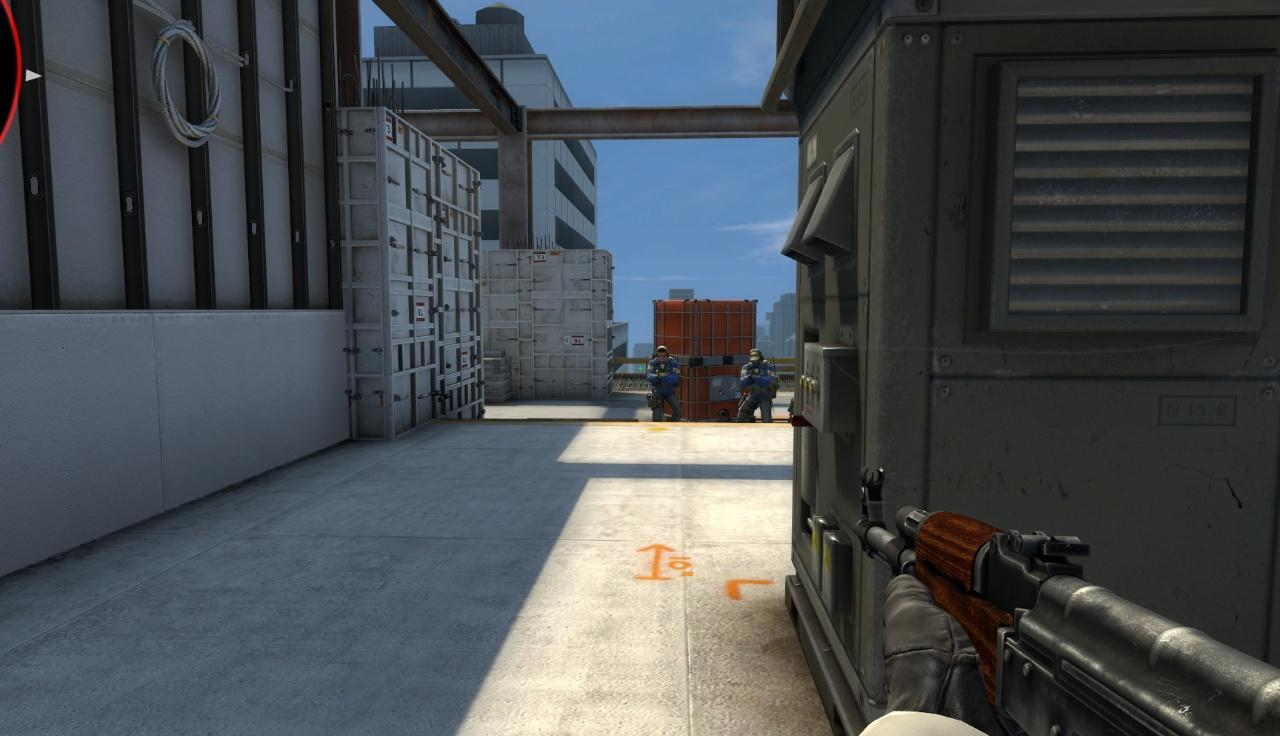ct: (735, 348, 776, 422), (647, 345, 682, 421)
cthead: (749, 349, 763, 367), (655, 346, 669, 362)
rifle: (832, 478, 1278, 734)
